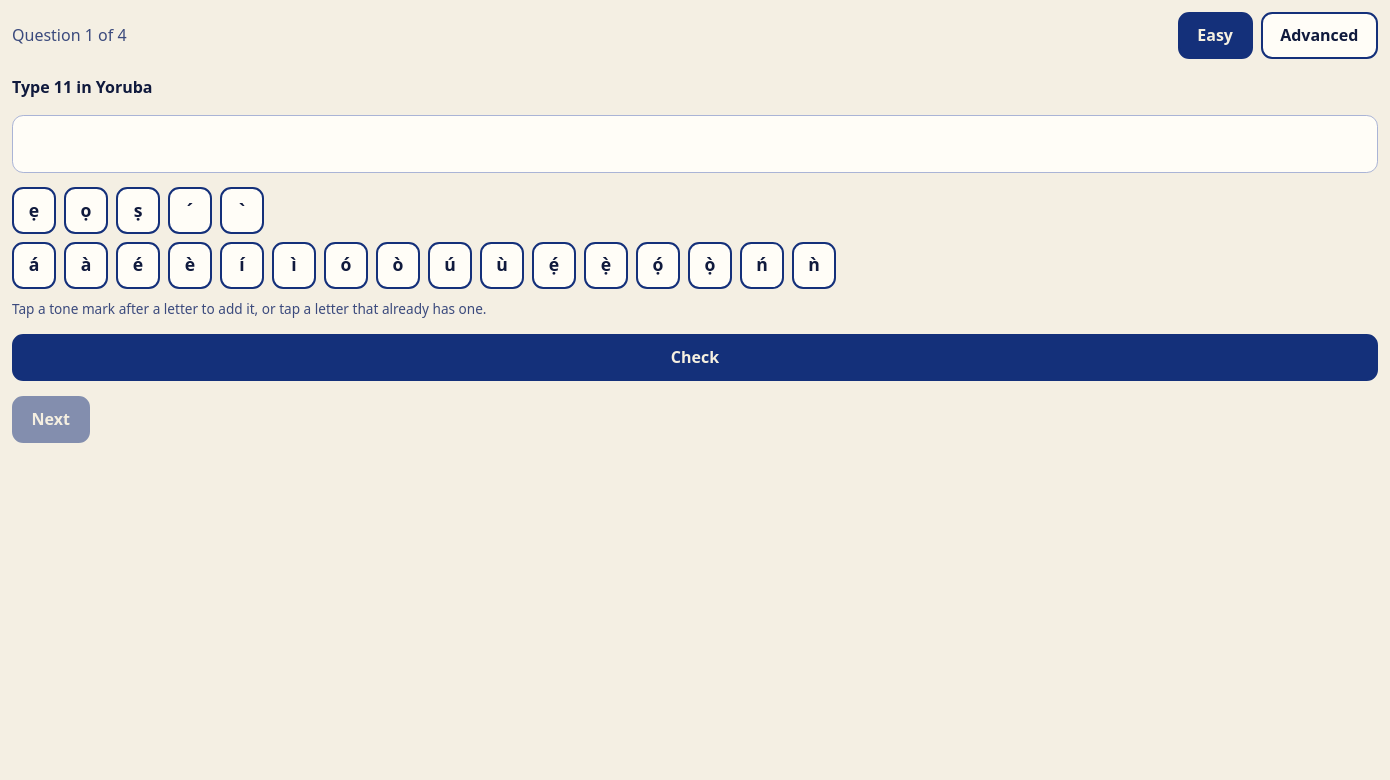
Scenario: NumbersPractice › accepts a valid variant
This screenshot has width=1390, height=780.
In the field with test id "numbers-input": (695, 144) [12,115,1378,173], type "oókànlá"
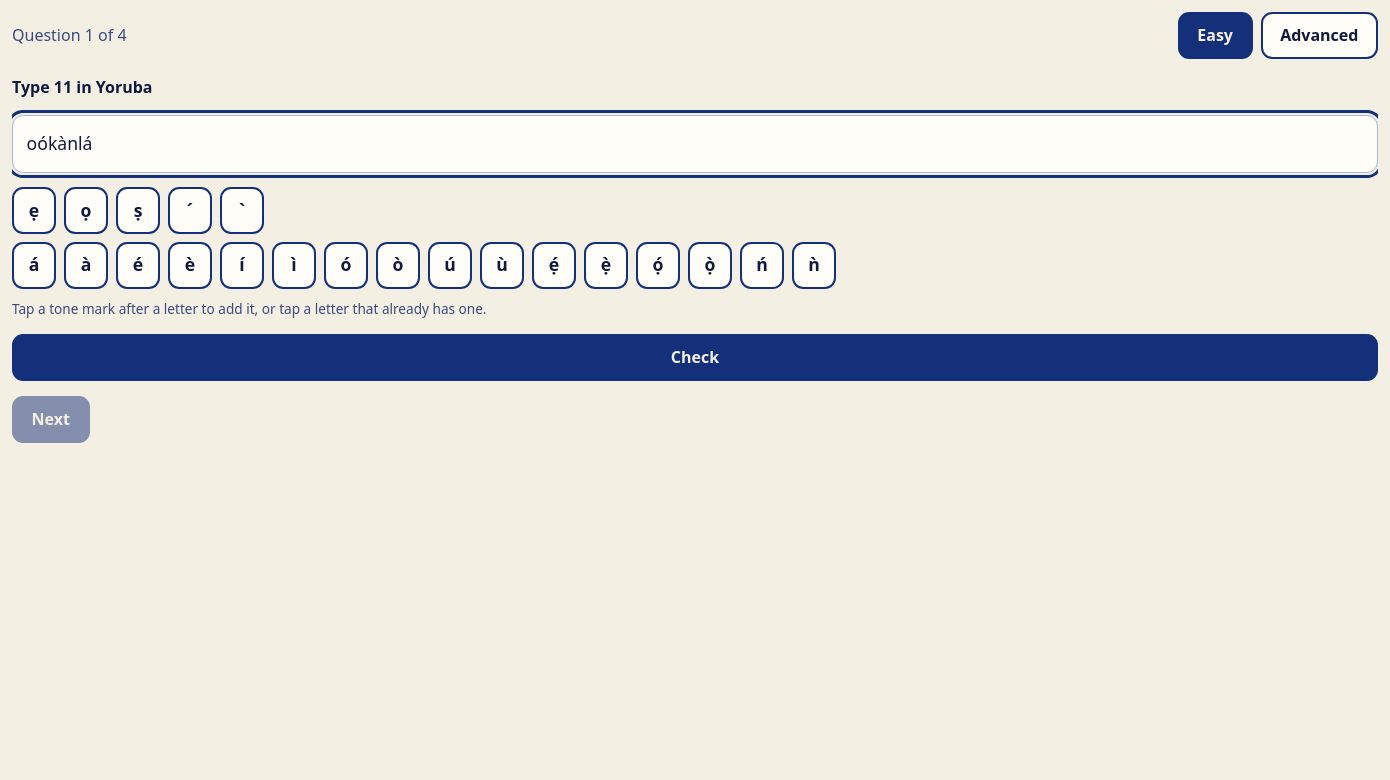
Click the button "Check": (695, 358) [12,334,1378,381]
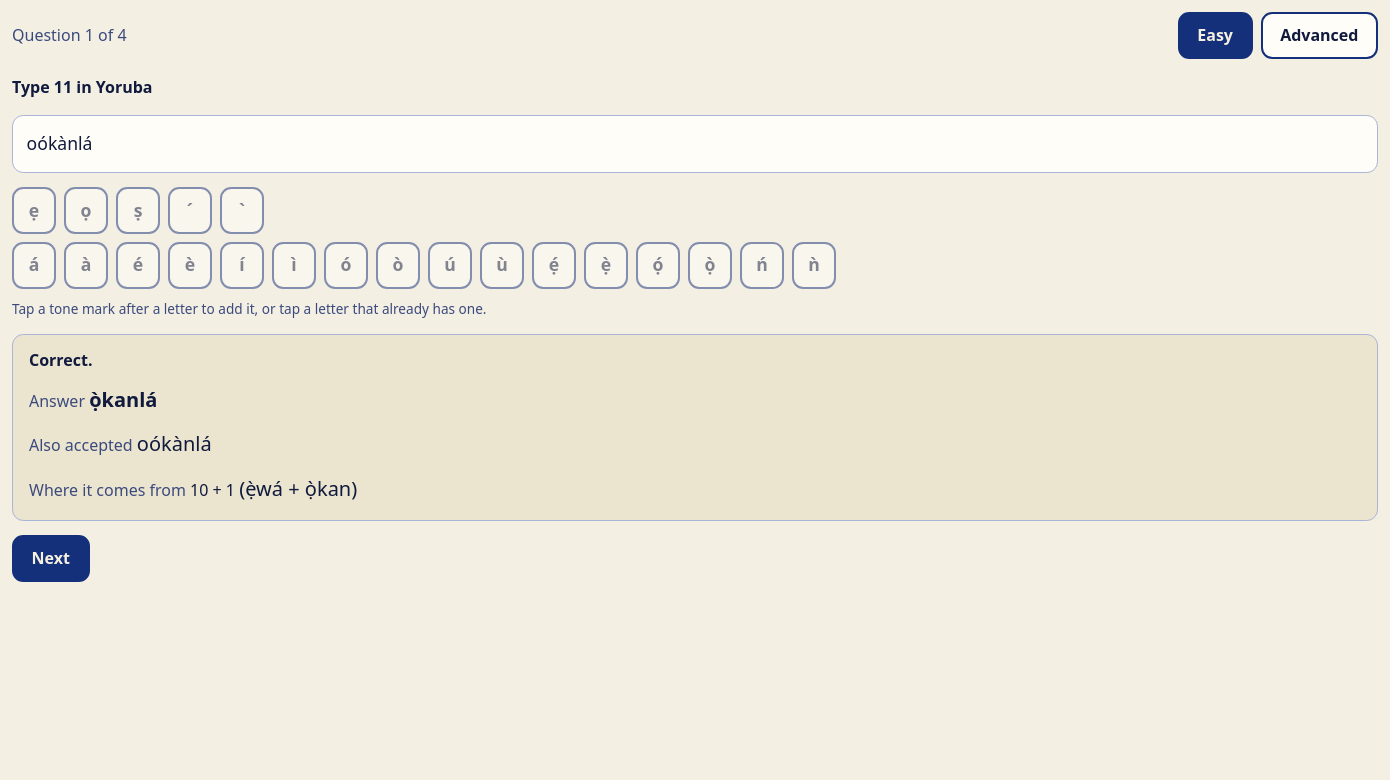
Expected: the message with test id "numbers-result" shows "Correct.", [29,349,92,371]
Expected: the message with test id "numbers-result" shows "ọ̀kanlá", [89,386,157,413]
